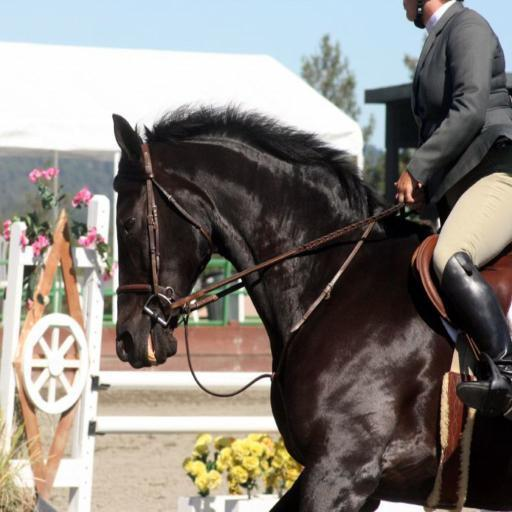horse: (112, 96, 512, 512)
